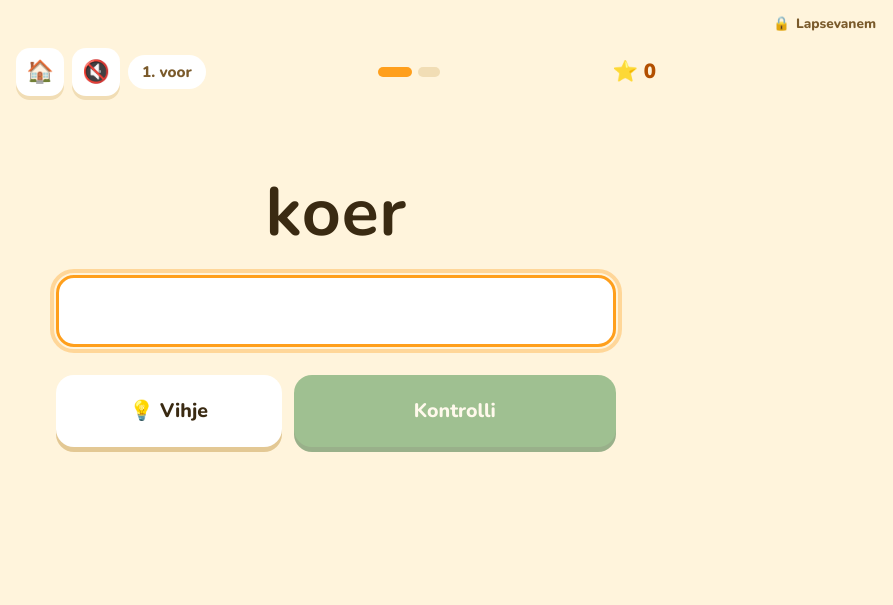
Test case: training screen › keeps the answer and asks to retry after a network failure
Type "dog" into the field named "Sinu vastus".
click(336, 311); type("dog")  # box [56,275,616,347]
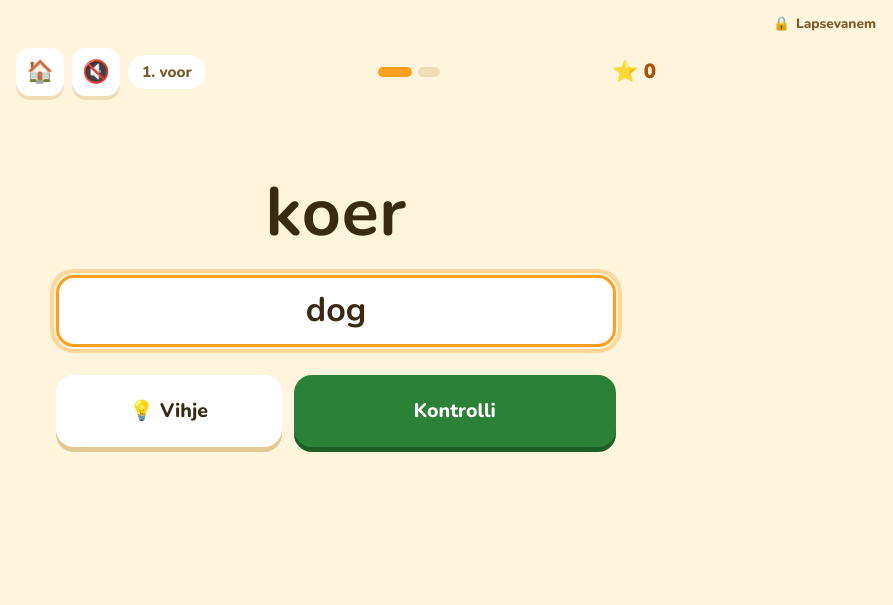
Click the button "Kontrolli".
click(455, 411)  # box [294,375,616,447]
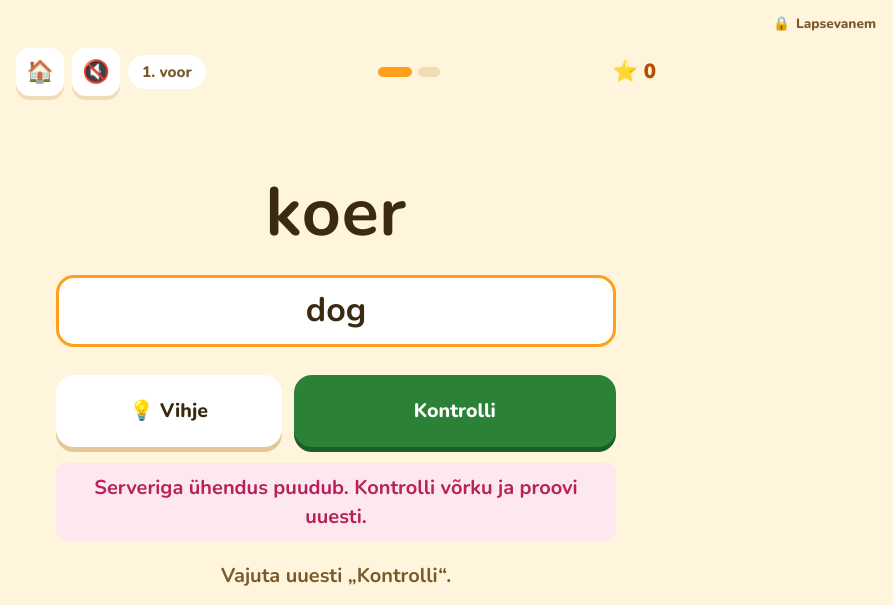
Check: the text "Vajuta uuesti „Kontrolli“." is shown, box [221,562,451,589]
Click the button "Kontrolli".
click(455, 411)  # box [294,375,616,447]
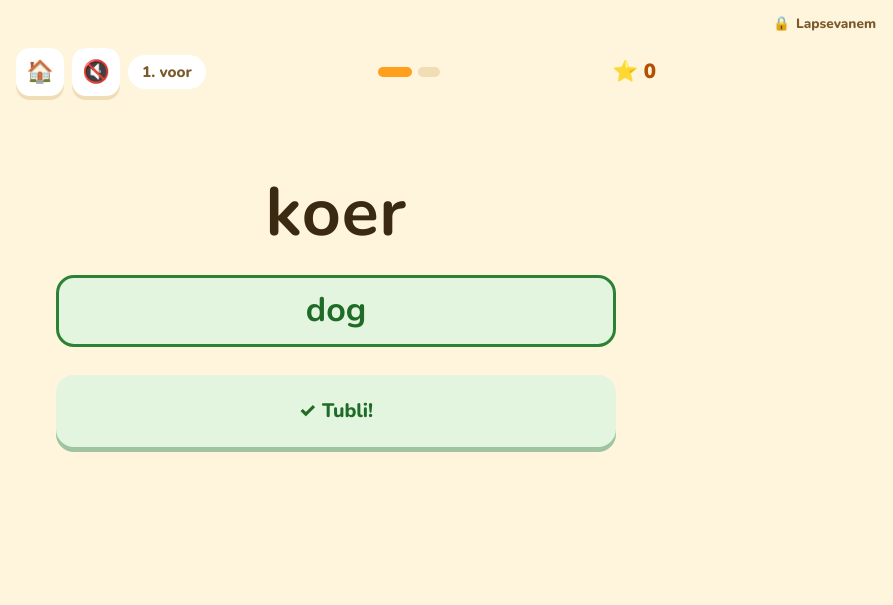
Check: the button "✓ Tubli!" is shown, box [56,375,616,447]
